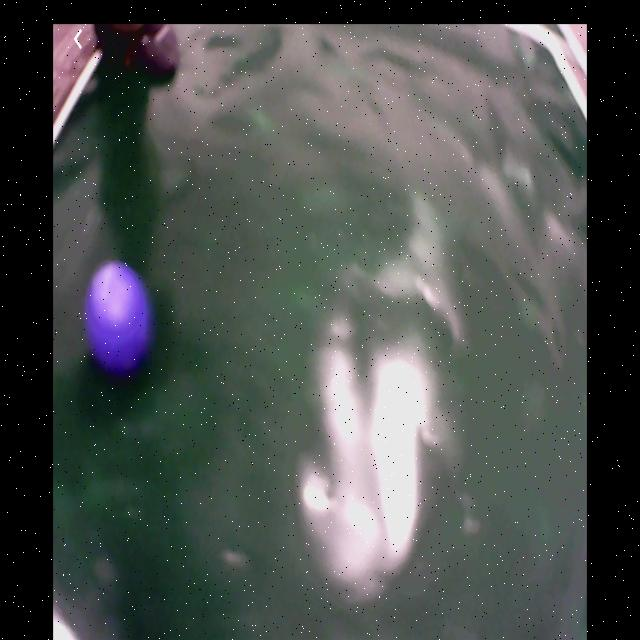ball: (86, 262, 152, 370)
